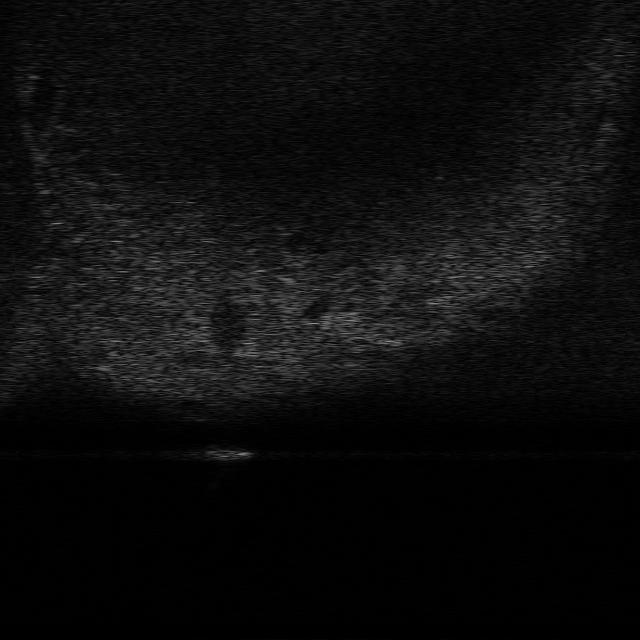cube: (192, 442, 256, 464)
